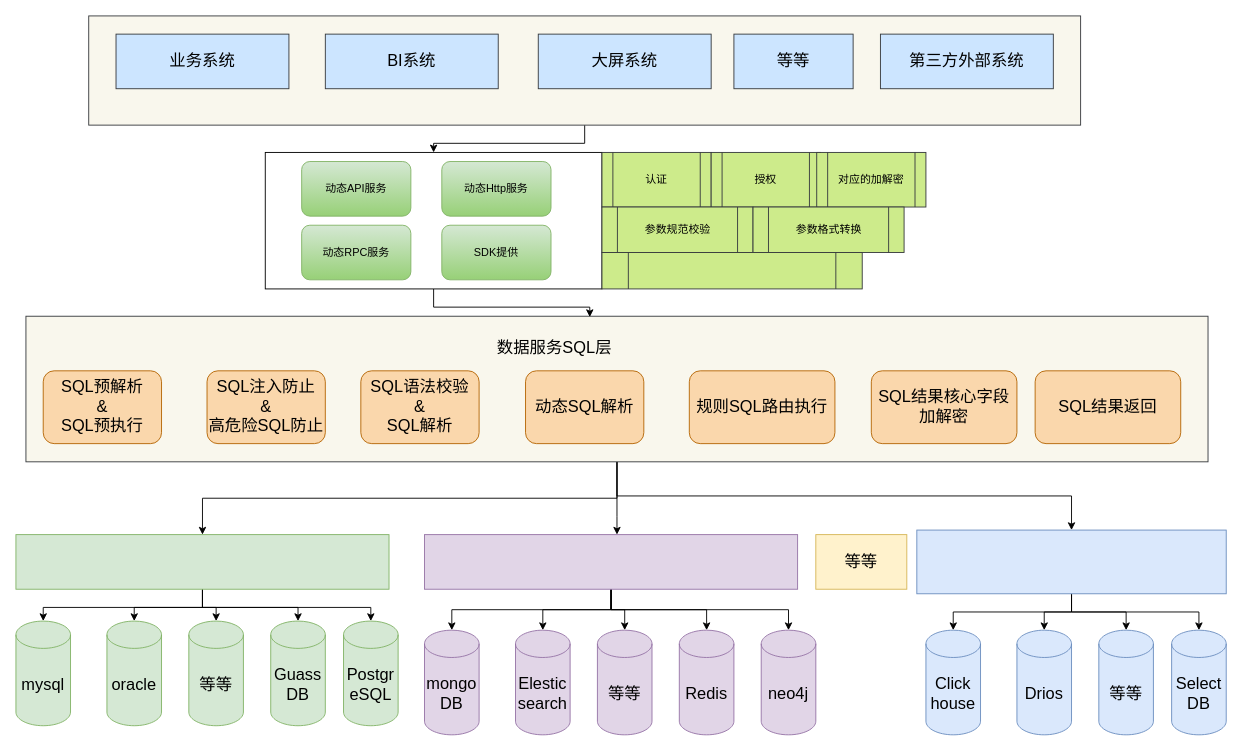
Image size: 1242x751. Some labels were removed from this diagram. Here are the shapes that lost their labels. From the top down, the centre of each, then its label:
point (731, 270): 返回数据格式映射模板
point (202, 561): 关系型数据库
point (611, 561): 非关系型数据库
point (1071, 561): MPP型数据库
